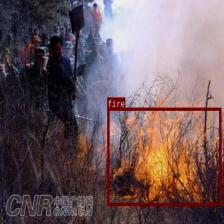fire: (107, 107, 221, 206)
